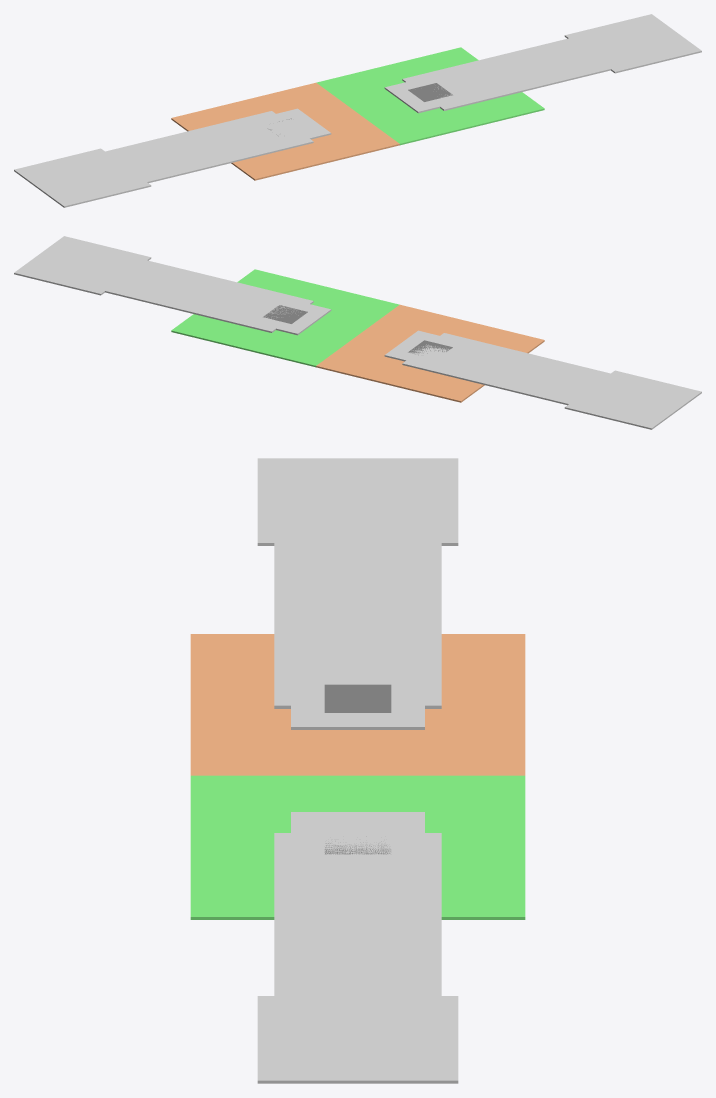
The model's file is board.glb.
3 views of the same model, one above another, from view 1: azimuth 30°, elevation 25°; view 2: azimuth 150°, elevation 25°; view 3: azimuth 270°, elevation 25° (orthographic). The views are drawn at different scales.
Parts seen in each view (by area): view 1: Copper_Net0_Contour0 (×2), Copper_Net2_Contour0 (×2), Copper_Net1_Contour0; view 2: Copper_Net0_Contour0 (×2), Copper_Net2_Contour0 (×2), Copper_Net1_Contour0; view 3: Copper_Net0_Contour0 (×2), Copper_Net1_Contour0 (×2), Copper_Net2_Contour0.
Part boxes in pixels (x1,y1,x2,y2): Copper_Net0_Contour0 (×2): (171, 47, 544, 180); Copper_Net2_Contour0 (×2): (384, 14, 701, 113); Copper_Net1_Contour0: (14, 108, 331, 207); Copper_Net0_Contour0 (×2): (171, 269, 544, 402); Copper_Net2_Contour0 (×2): (14, 236, 331, 335); Copper_Net1_Contour0: (384, 330, 701, 429); Copper_Net0_Contour0 (×2): (190, 634, 525, 919); Copper_Net1_Contour0 (×2): (257, 458, 458, 729); Copper_Net2_Contour0: (257, 812, 458, 1083).
Bounding box in the file's own units: 4.4e-06 × 3e-08 × 1e-06.
